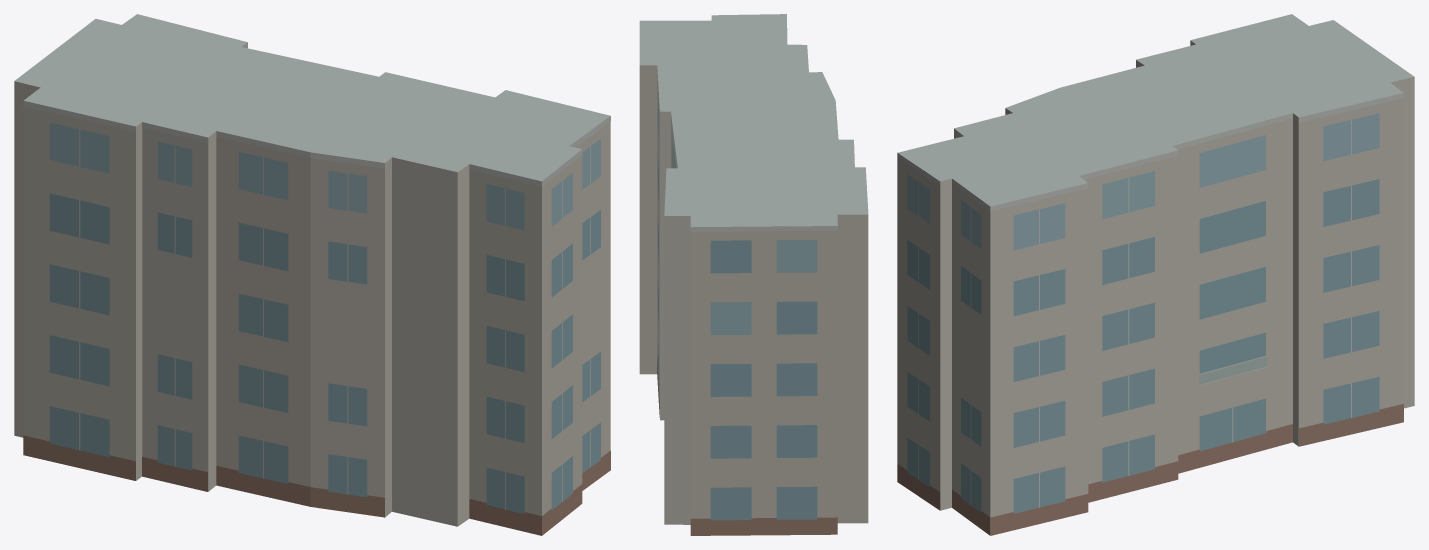
Rendered from survey-upis-32987192.glb.
The picture shows the model from 3 angles, left to right: view 1: azimuth 30°, elevation 25°; view 2: azimuth 150°, elevation 25°; view 3: azimuth 270°, elevation 25°; orthographic projection. The views are drawn at different scales.
Visible parts, largest first — view 1: survey-upis-32987192.tmp; view 2: survey-upis-32987192.tmp; view 3: survey-upis-32987192.tmp.
Part boxes in pixels (box(x1,y1,x2,y2)): survey-upis-32987192.tmp: box(14, 14, 610, 535); survey-upis-32987192.tmp: box(639, 14, 868, 535); survey-upis-32987192.tmp: box(897, 14, 1414, 535).
Bounding box in the file's own units: 19.58 × 15.6 × 22.21.
